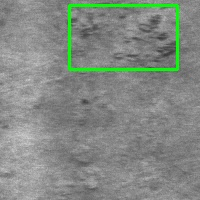rolled-in_scale: (69, 5, 177, 69)
